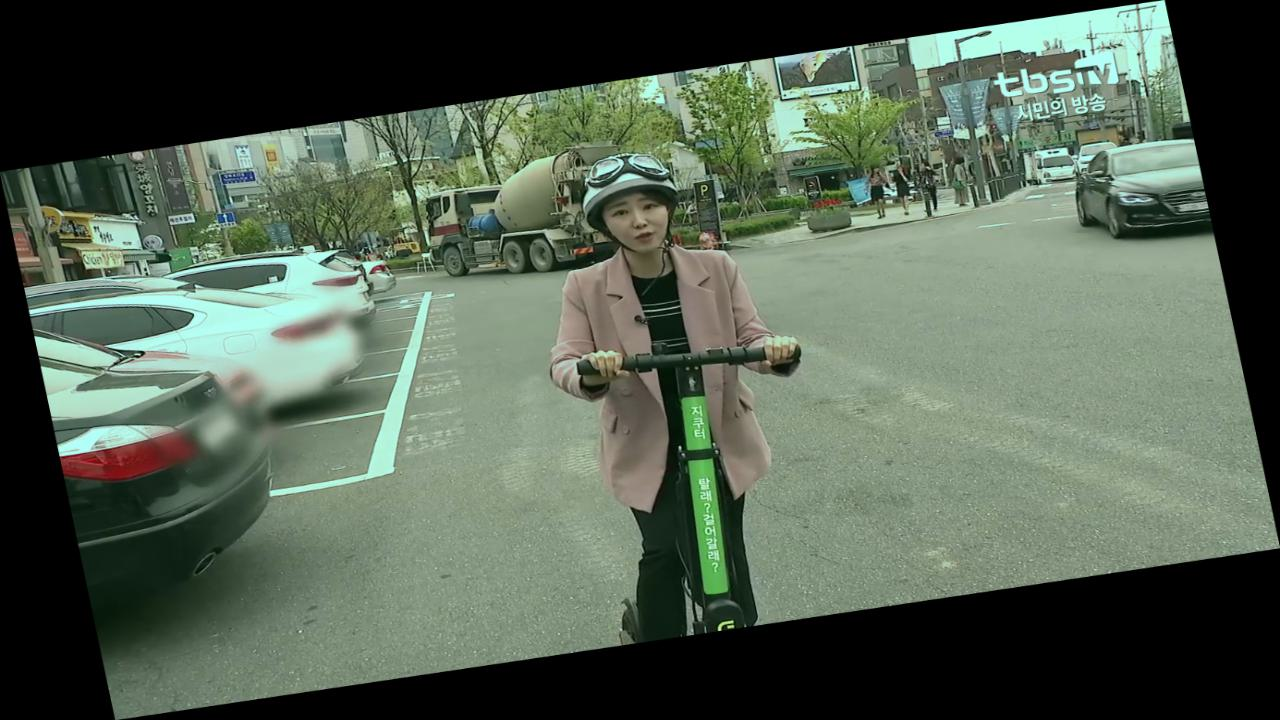helmet: (501, 132, 860, 648)
